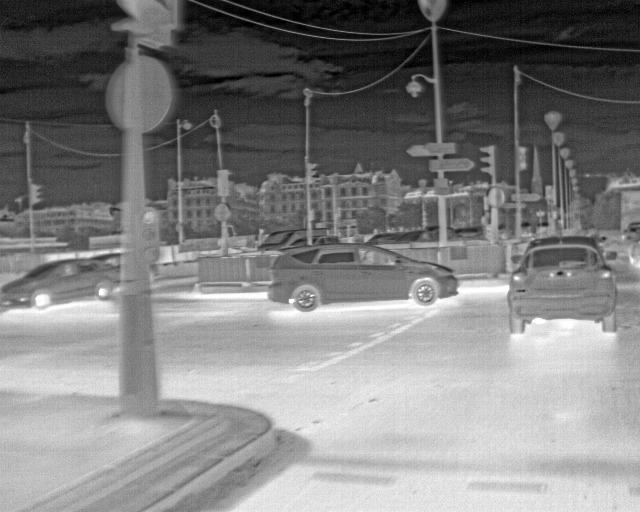car: (266, 242, 459, 312), (506, 235, 619, 335), (0, 259, 116, 315), (89, 252, 159, 284), (256, 228, 327, 251), (571, 227, 607, 258), (392, 229, 438, 244), (288, 234, 339, 246), (425, 225, 463, 241), (625, 228, 639, 266), (367, 231, 407, 244), (455, 226, 485, 241), (623, 221, 639, 244), (498, 223, 511, 240), (520, 221, 532, 236)
light: (140, 210, 158, 262), (479, 146, 492, 173), (217, 169, 230, 196), (307, 163, 318, 184), (519, 146, 527, 170), (35, 184, 43, 203), (545, 185, 552, 200), (486, 224, 492, 239), (309, 210, 314, 221)
sign: (104, 54, 174, 134), (429, 158, 475, 172), (405, 144, 439, 157), (422, 142, 456, 154), (486, 187, 505, 208), (214, 202, 232, 221), (510, 193, 541, 202), (503, 202, 527, 208)
